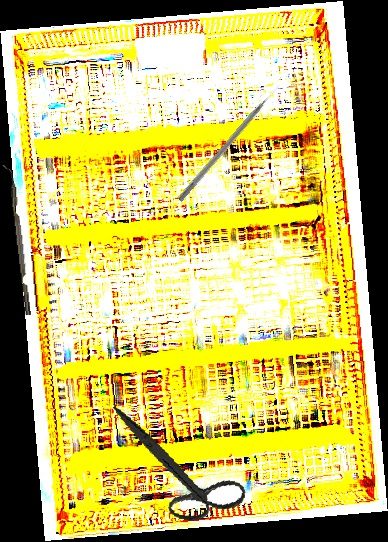Chopper: (2, 163, 31, 317)
Iris Scissors: (94, 405, 258, 531)
Pusher: (177, 83, 283, 203)
